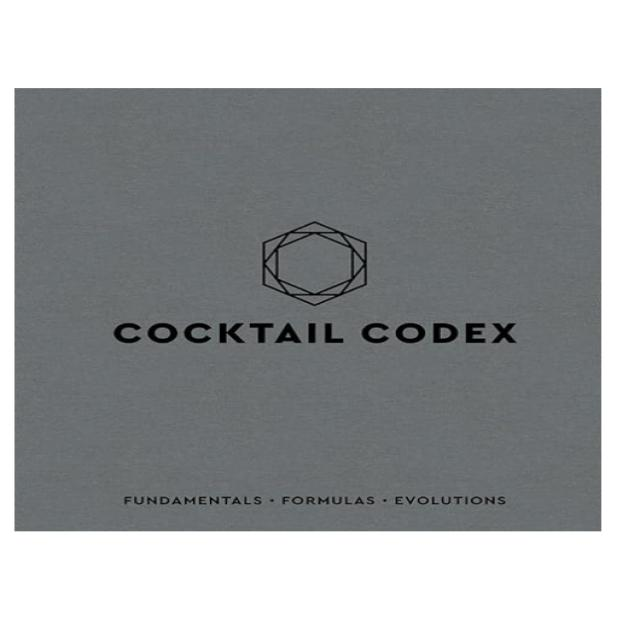titles-or-authors: (107, 314, 526, 355)
